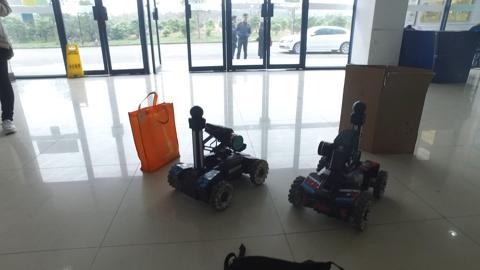bag: (126, 93, 181, 167)
chariot: (293, 103, 391, 229), (177, 105, 272, 212)
